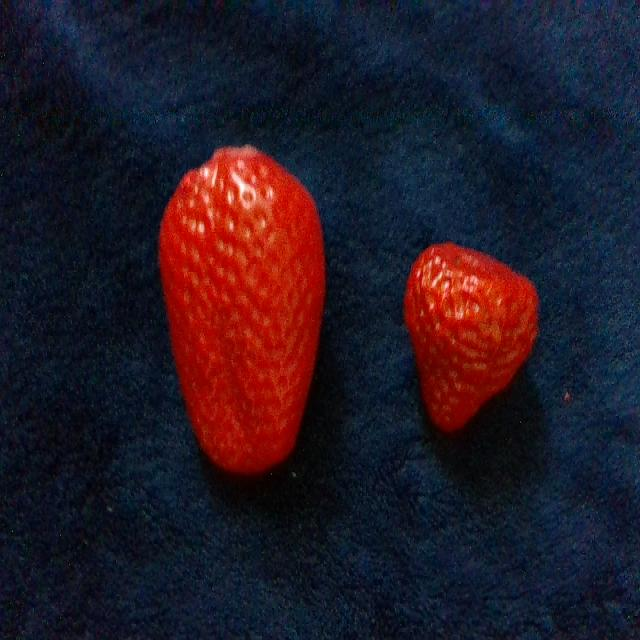chica_roja: (405, 243, 537, 431)
grande_roja: (159, 147, 324, 471)
